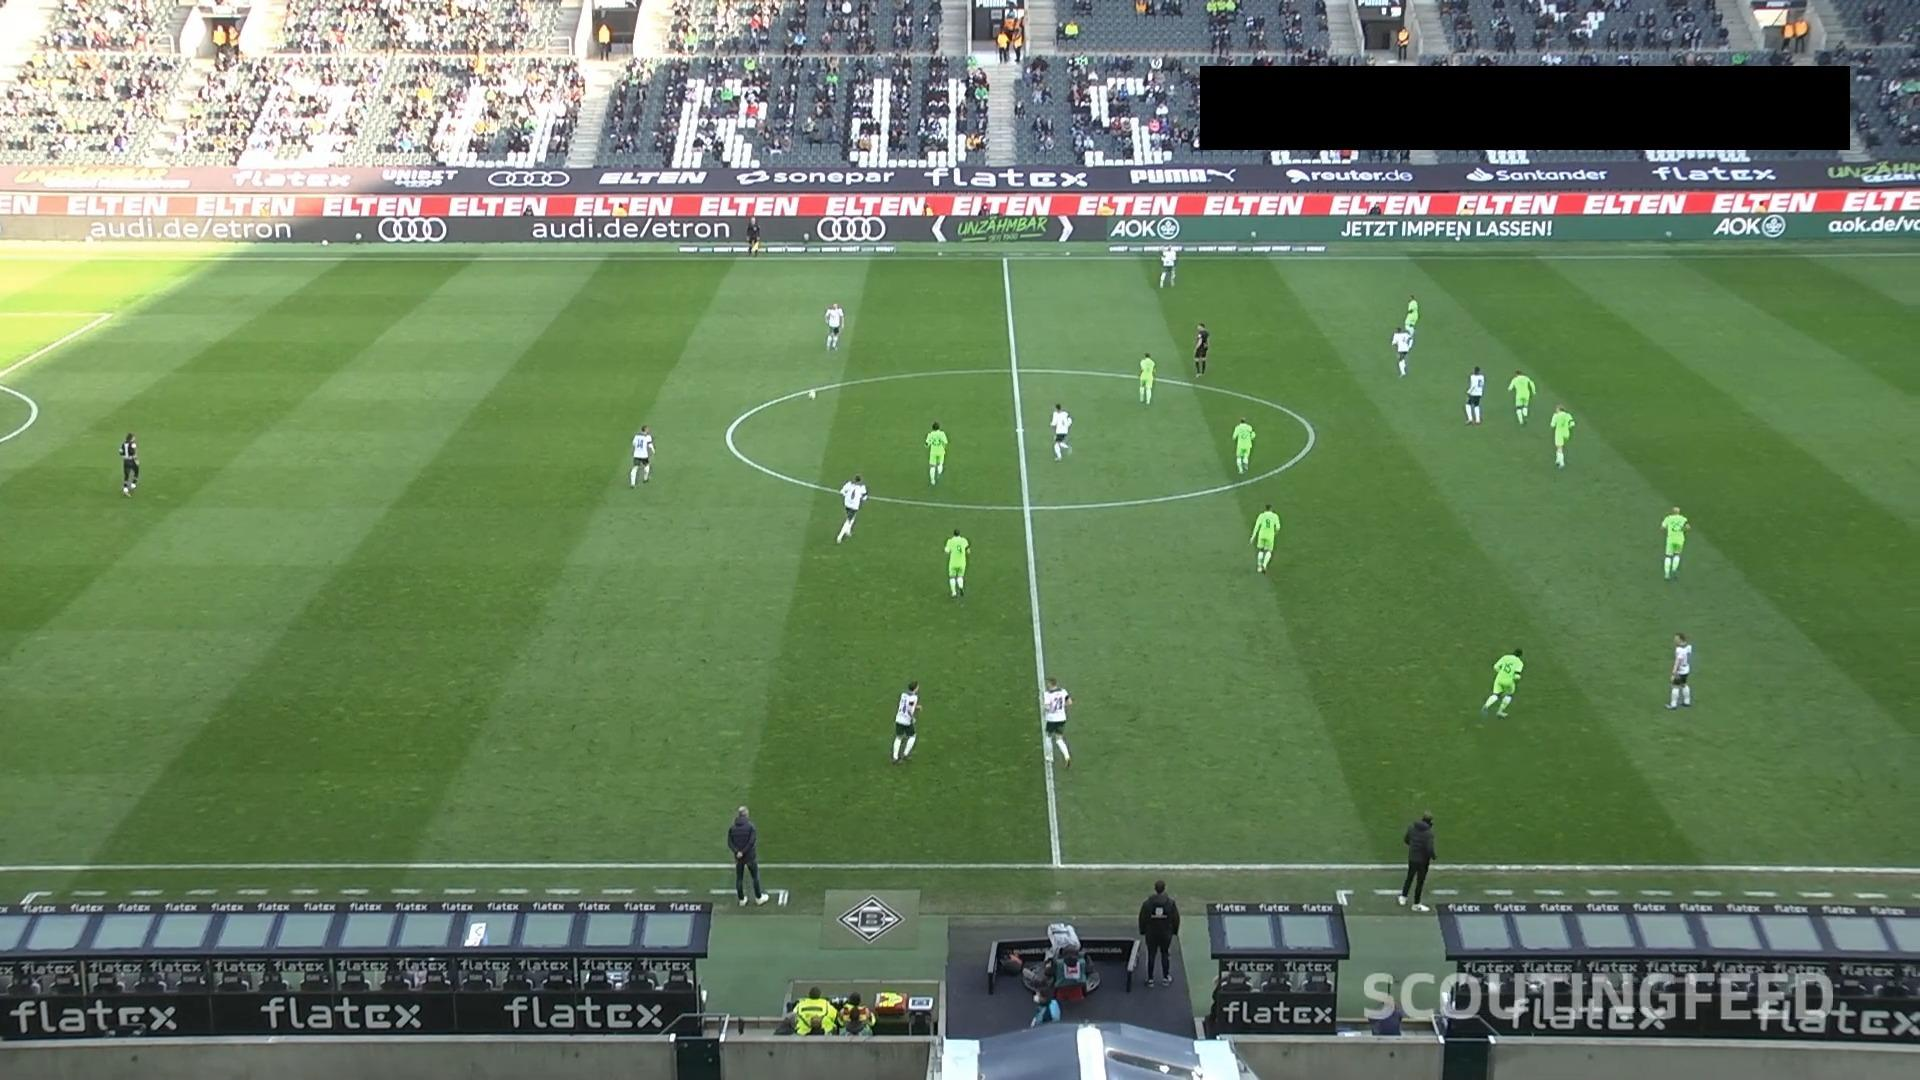ball: (806, 389, 818, 400)
